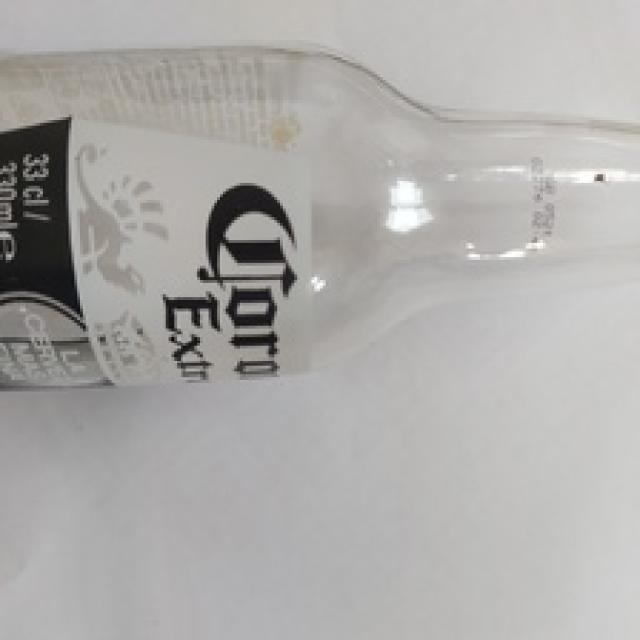Glass: (0, 41, 640, 400)
